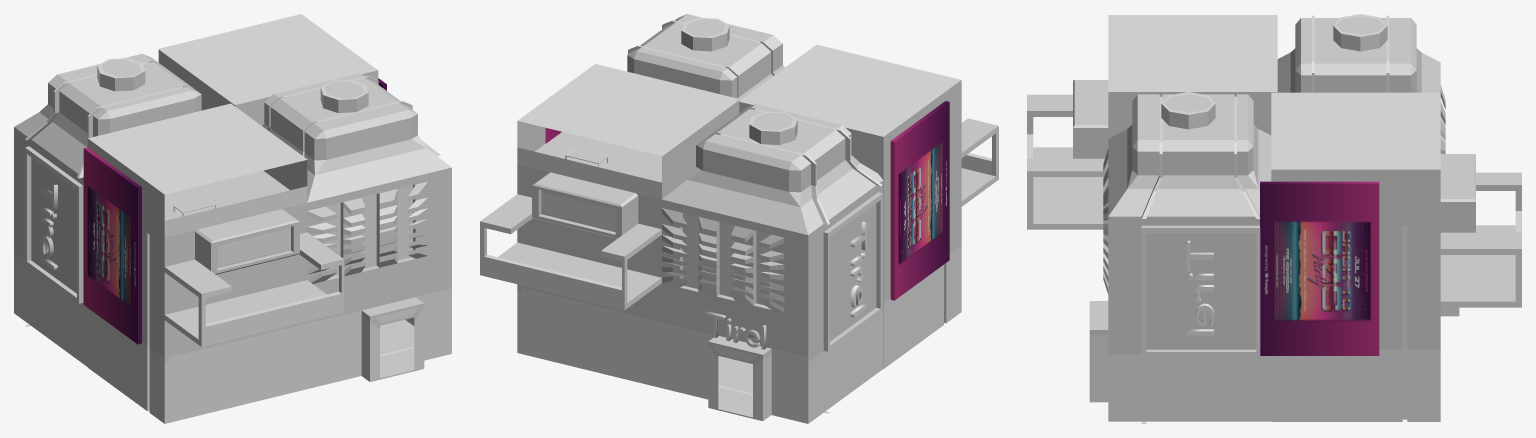
File: bina 5.fbx
3 renders of one model, left to right at view 1: azimuth 30°, elevation 25°; view 2: azimuth 150°, elevation 25°; view 3: azimuth 270°, elevation 25°, orthographic. The views are drawn at different scales.
Visible parts, largest first — view 1: Plane.002; view 2: Plane.002; view 3: Plane.002.
Boxes of the visible parts, x1,y1,x2,y2 form: Plane.002: [14, 14, 451, 423]; Plane.002: [480, 14, 998, 423]; Plane.002: [1027, 14, 1521, 423].
Bounding box in the file's own units: 54.61 × 34.13 × 42.27.
7 materials, 1 textured.
